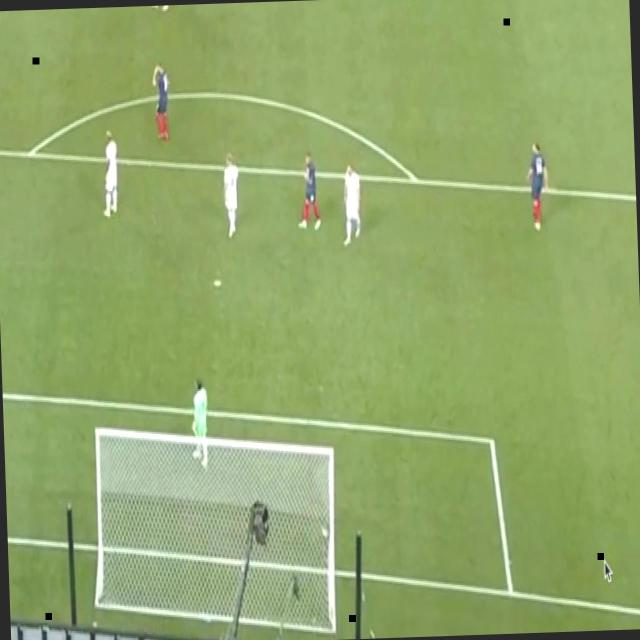player-white: (522, 138, 552, 230), (186, 371, 212, 472), (292, 147, 322, 234), (338, 160, 364, 252), (98, 127, 122, 222), (149, 55, 173, 145), (221, 146, 243, 240), (148, 5, 169, 17)
